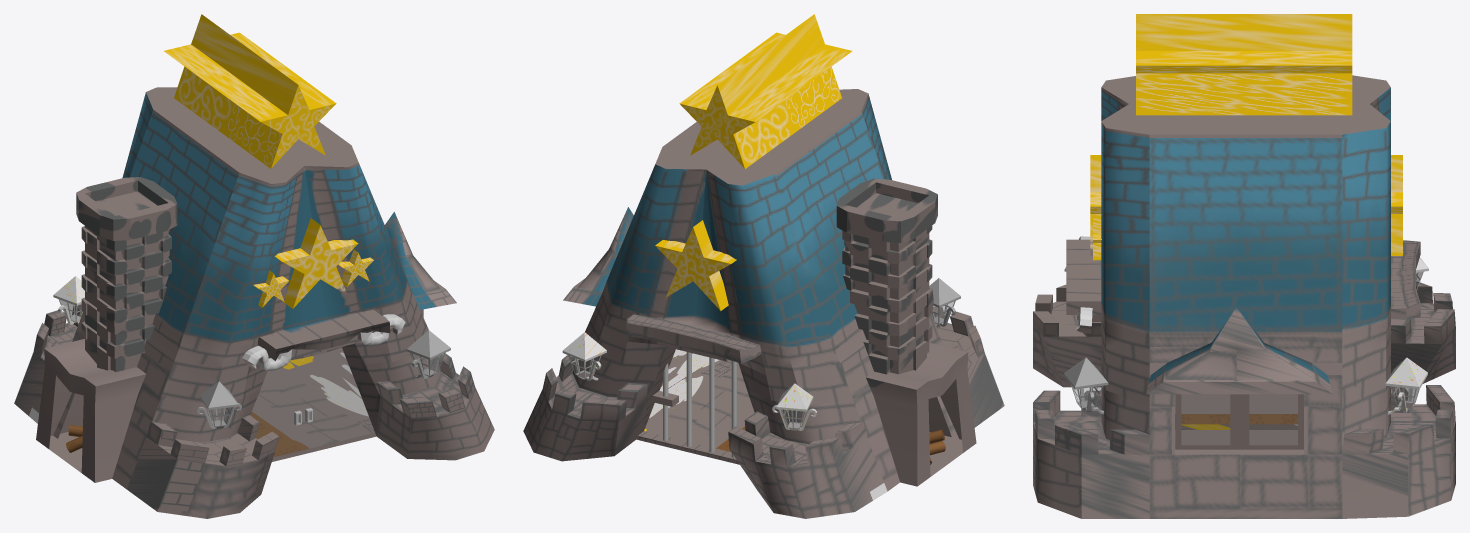
The model's file is police station.fbx.
3 renders of one model, left to right at view 1: azimuth 30°, elevation 25°; view 2: azimuth 150°, elevation 25°; view 3: azimuth 270°, elevation 25°, orthographic. The views are drawn at different scales.
Visible parts, largest first — view 1: building, chimney, Star1, Star, lamp, lamp1, Star3, Star2; view 2: building, chimney, Star1, Star4, bars, lamp1, lamp; view 3: building, Star1, mirror, lamp1, lamp, Star4, Star.
Boxes of the visible parts, box(x1,y1,x2,y2) form: building: box(14, 87, 494, 518); chimney: box(36, 177, 177, 482); Star1: box(164, 14, 336, 168); Star: box(275, 218, 358, 308); lamp: box(196, 330, 450, 428); lamp1: box(53, 276, 84, 324); Star3: box(338, 249, 373, 286); Star2: box(253, 270, 288, 307); building: box(523, 89, 1004, 518); chimney: box(836, 178, 976, 486); Star1: box(679, 14, 852, 168); Star4: box(655, 220, 736, 310); bars: box(636, 352, 739, 464); lamp1: box(562, 332, 817, 430); lamp: box(929, 278, 960, 326); building: box(1033, 75, 1455, 518); Star1: box(1136, 14, 1352, 115); mirror: box(1175, 394, 1303, 449); lamp1: box(1385, 257, 1428, 414); lamp: box(1064, 267, 1108, 414); Star4: box(1391, 155, 1402, 255); Star: box(1090, 155, 1101, 255).
Bounding box in the file's own units: 31 × 30.83 × 28.69.
